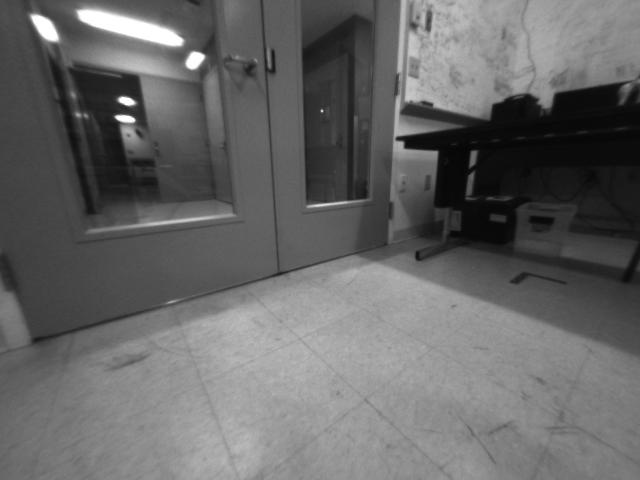door_handle: (215, 48, 261, 80)
